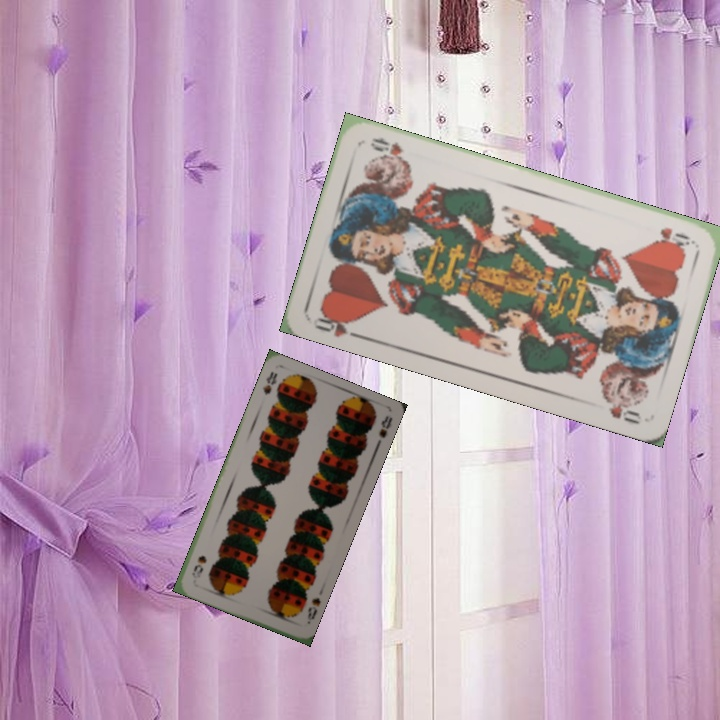HO: (309, 306, 365, 342), (651, 223, 697, 251)
S8: (303, 593, 323, 627), (258, 367, 280, 397)
